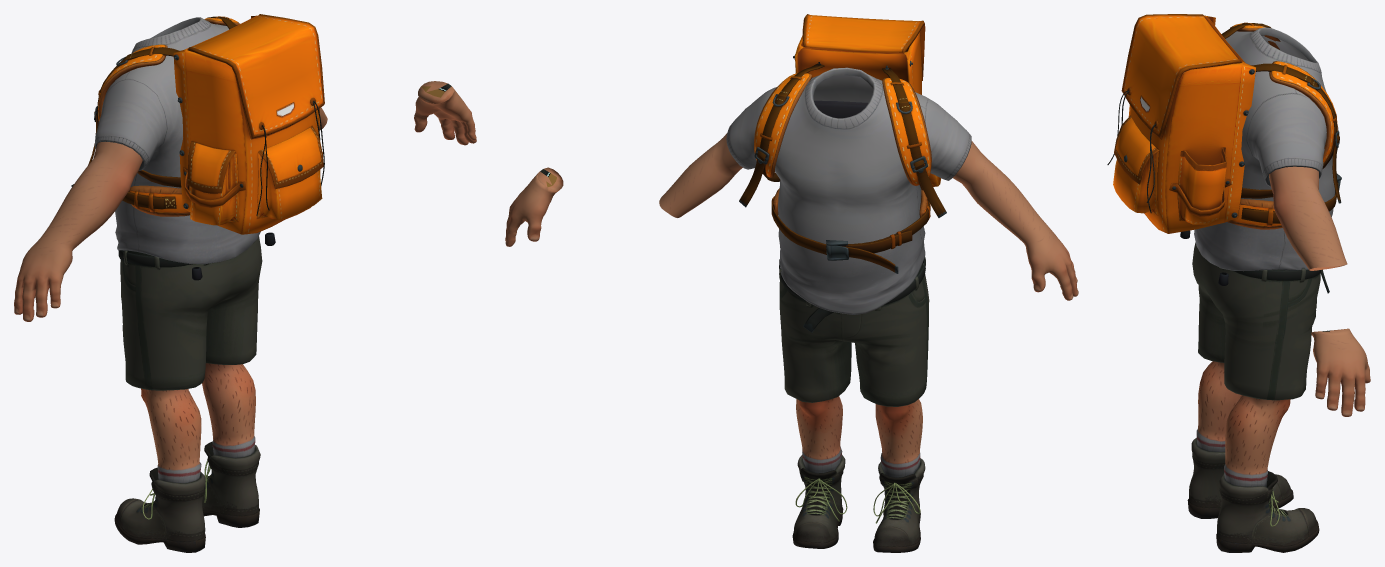
The model's file is Hand.fbx.
The picture shows the model from 3 angles, left to right: view 1: azimuth 30°, elevation 25°; view 2: azimuth 150°, elevation 25°; view 3: azimuth 270°, elevation 25°; orthographic projection. The views are drawn at different scales.
Visible parts, largest first — view 1: bodymesh, hand, handlid; view 2: bodymesh, hand; view 3: bodymesh, hand.
Boxes of the visible parts, left/top/right/bottom form: bodymesh: left=14, top=14, right=327, bottom=552; hand: left=414, top=87, right=476, bottom=145; handlid: left=418, top=81, right=453, bottom=103; bodymesh: left=659, top=14, right=1078, bottom=552; hand: left=505, top=171, right=558, bottom=246; bodymesh: left=1107, top=14, right=1347, bottom=552; hand: left=1311, top=329, right=1370, bottom=416.
Size of the model in its own units: 170 by 157 by 73.93.
